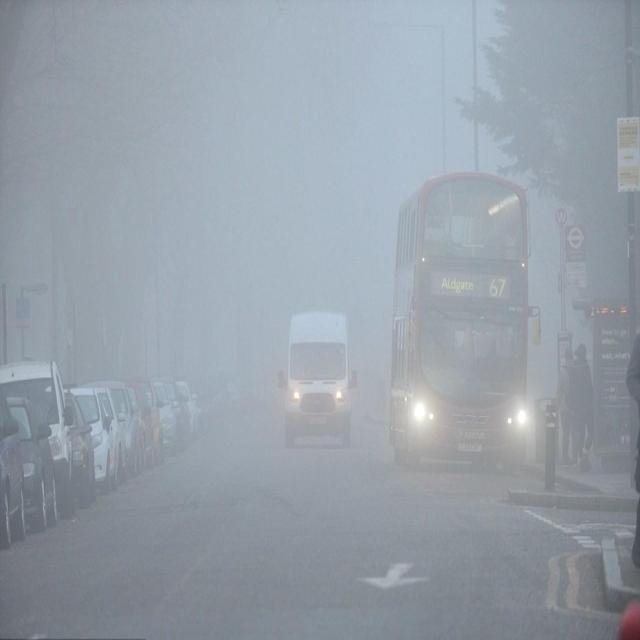Bus: (389, 170, 540, 472)
Car: (1, 361, 73, 517), (6, 394, 57, 535), (64, 388, 112, 498), (0, 380, 25, 549), (64, 388, 96, 506), (93, 384, 126, 486), (106, 380, 140, 475), (122, 377, 151, 471), (137, 377, 163, 462), (153, 378, 180, 456), (166, 378, 190, 452), (175, 379, 198, 438)
Van: (274, 308, 358, 449)
